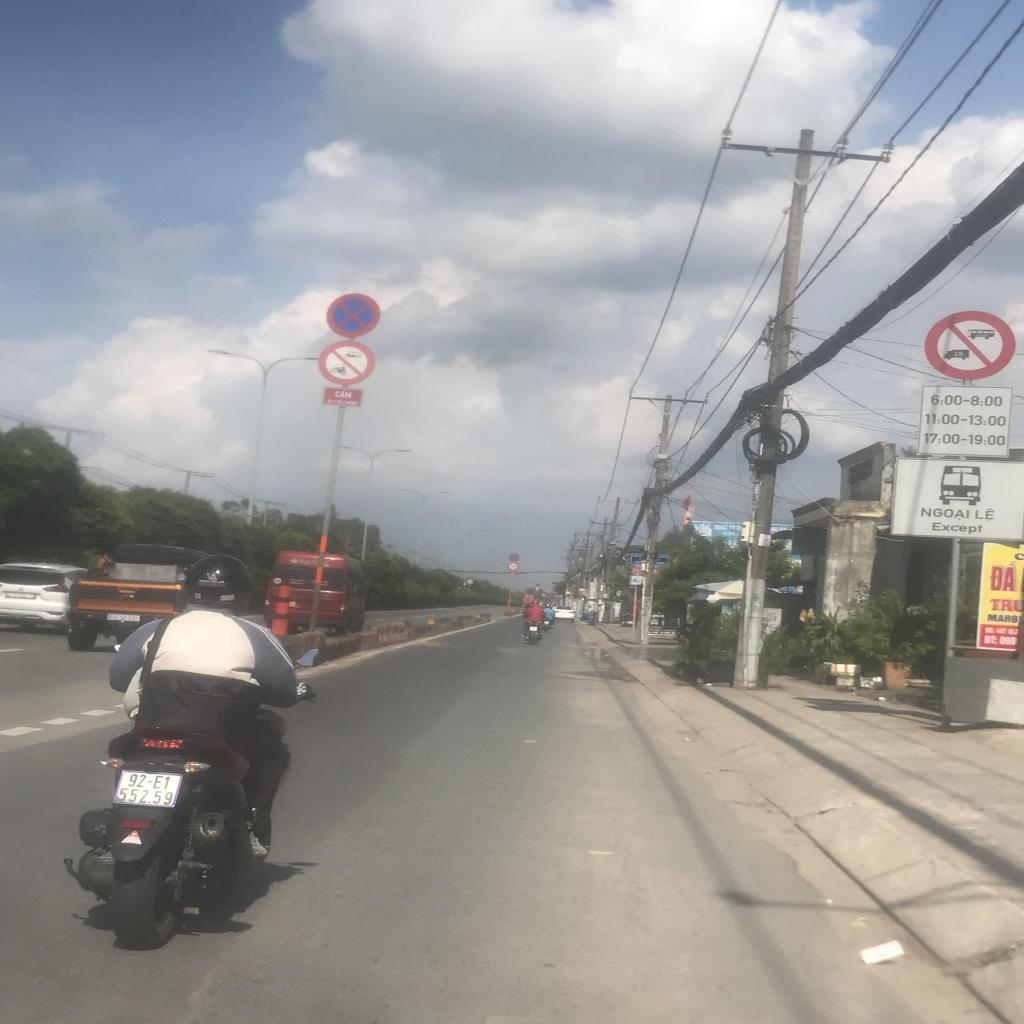cam_dung_xe_va_do_xe: (328, 294, 381, 336), (508, 552, 520, 562)
cam_o_to_tai_va_xe_khach: (924, 310, 1015, 380)
cam_xe_2_banh_va_xe_3_banh_co_dong_co: (320, 340, 374, 385), (508, 562, 518, 570)
khac: (889, 459, 1023, 541), (916, 386, 1012, 457)
